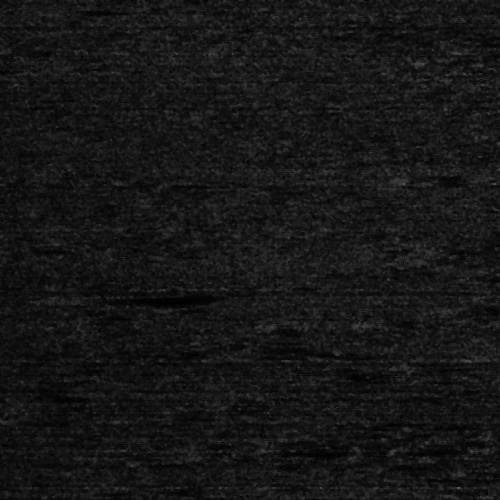object: (30, 291, 113, 302), (441, 45, 500, 52)
shadow: (72, 291, 201, 302), (478, 45, 500, 52)
